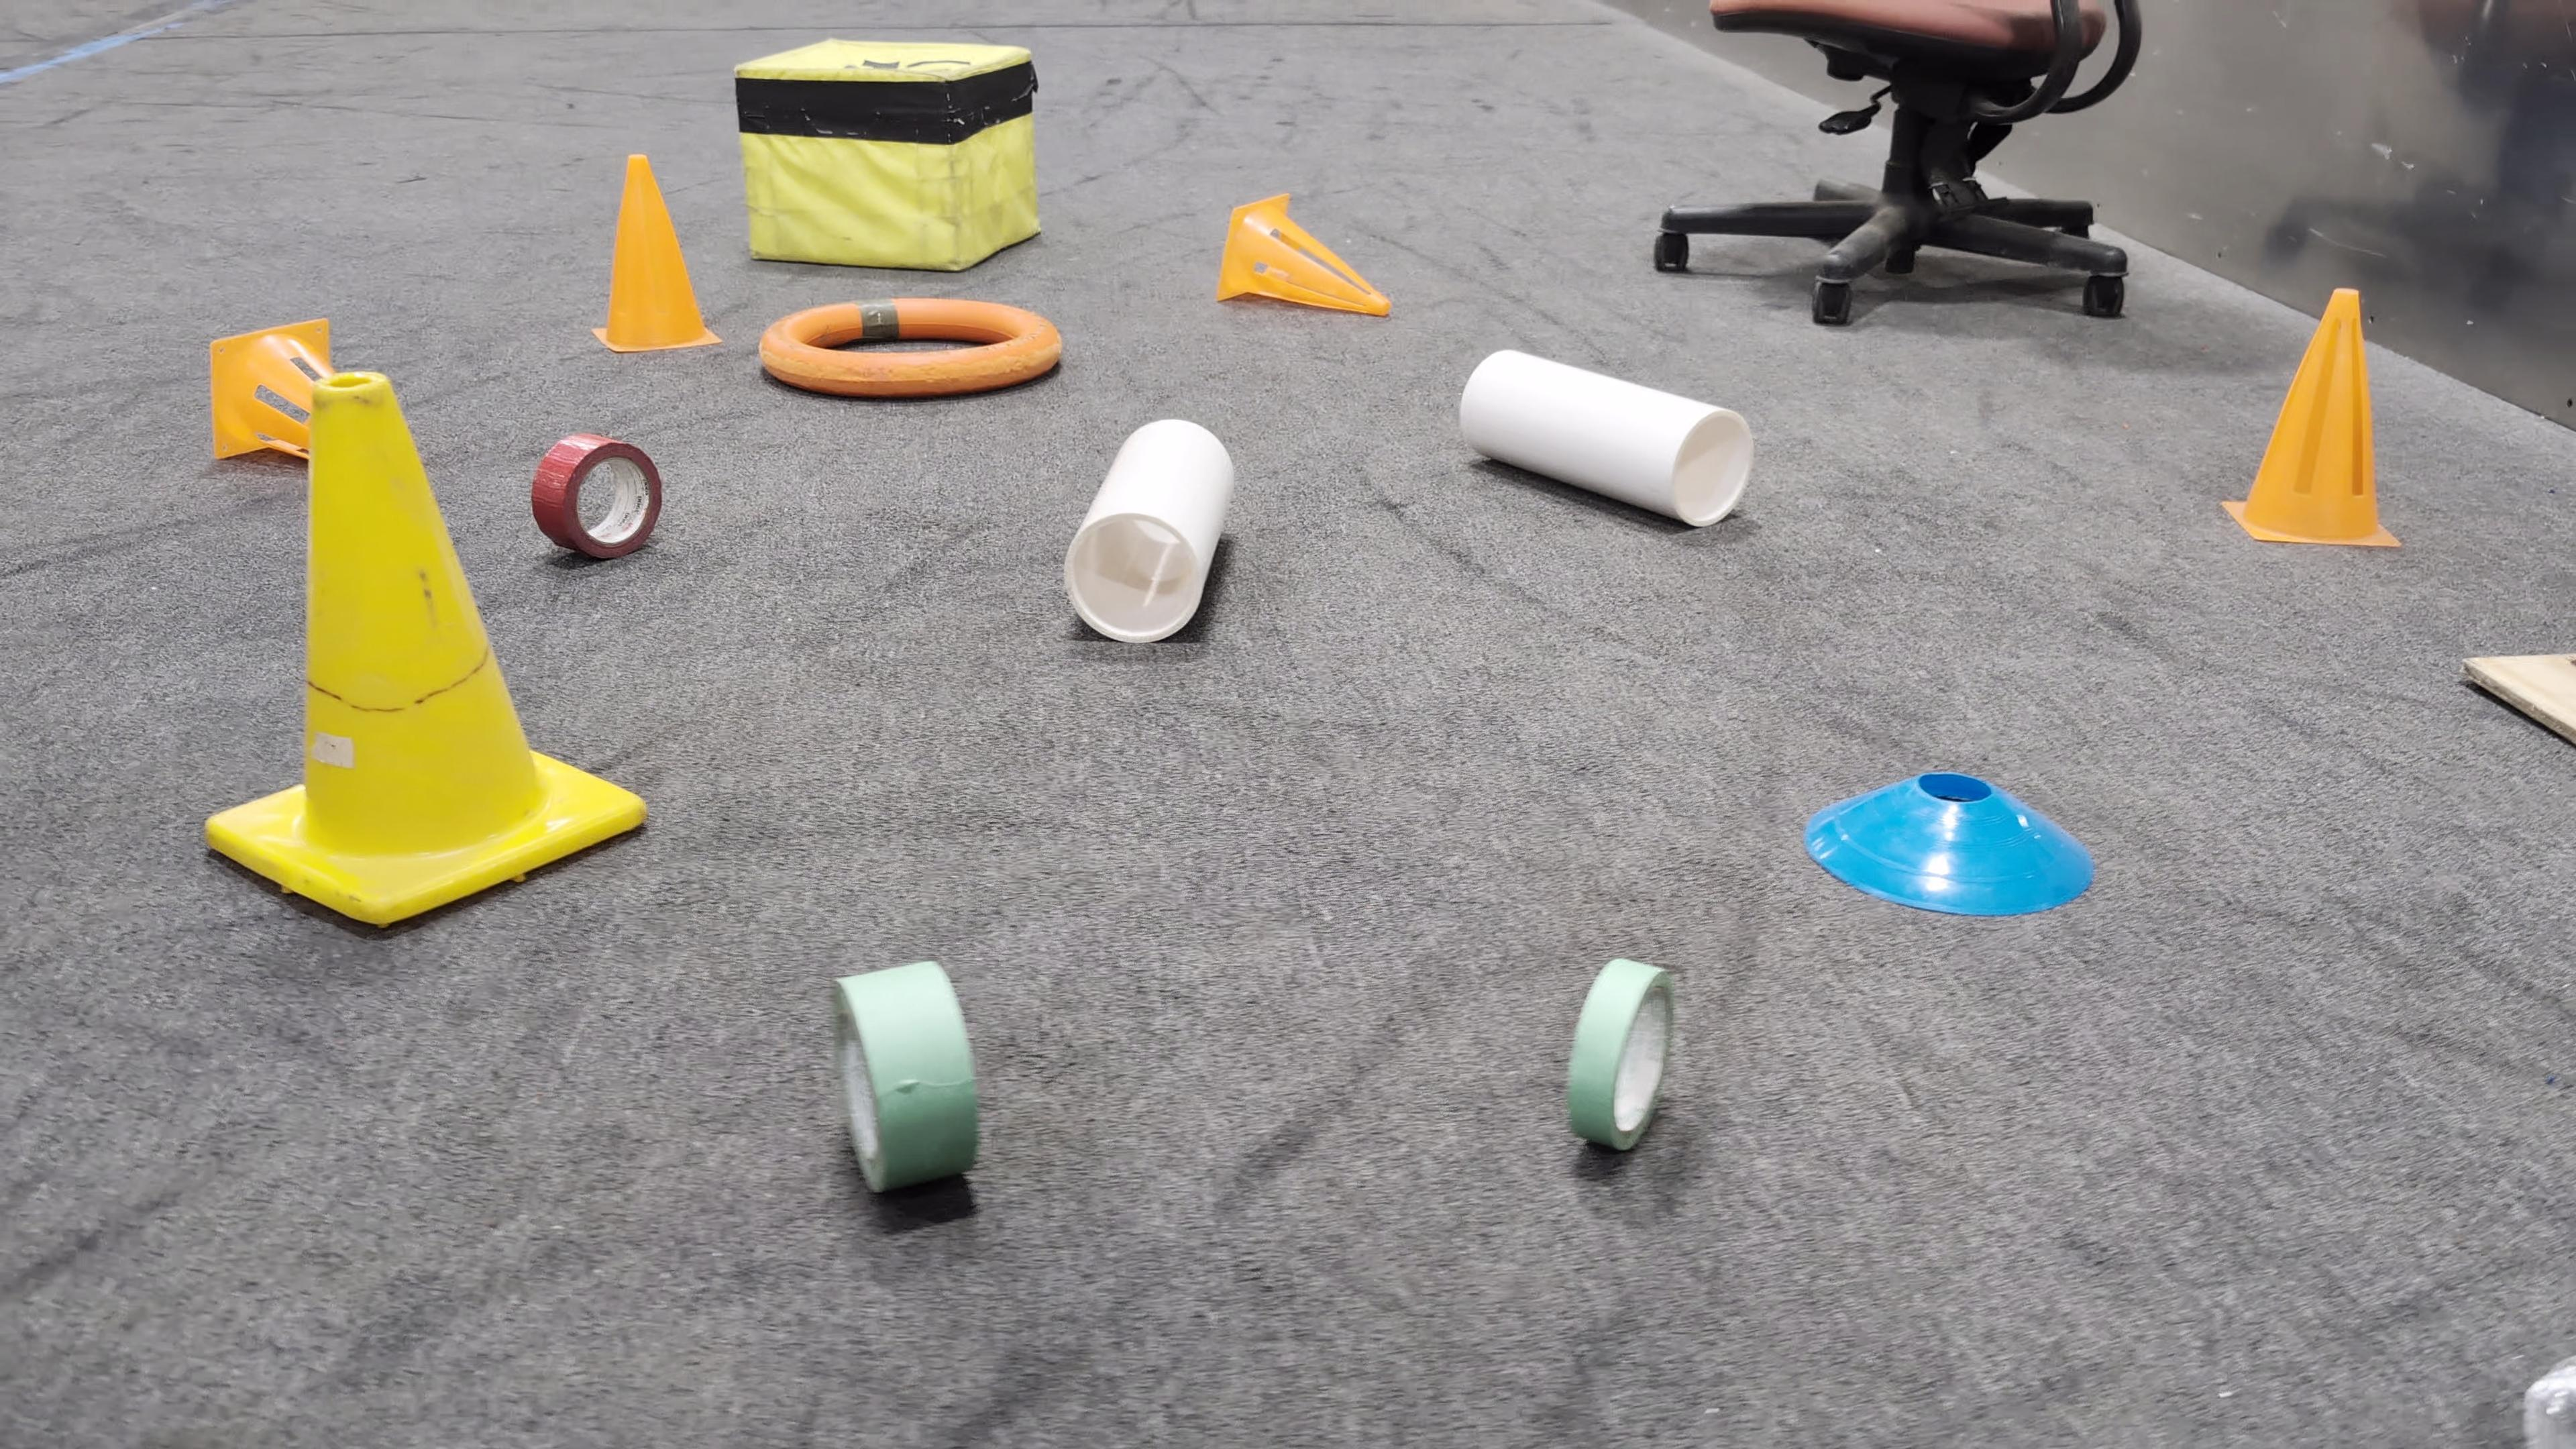coral: (1458, 345, 1755, 529), (1062, 416, 1235, 642)
